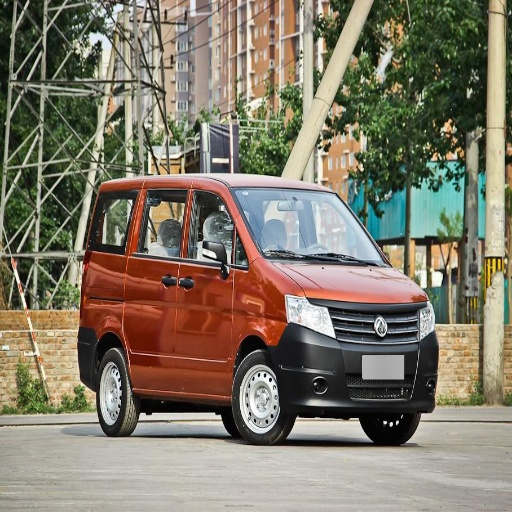front_bumper: (276, 301, 439, 412)
front_right_door: (176, 184, 248, 394)
front_right_light: (286, 295, 331, 335)
trunk: (89, 277, 123, 339)
